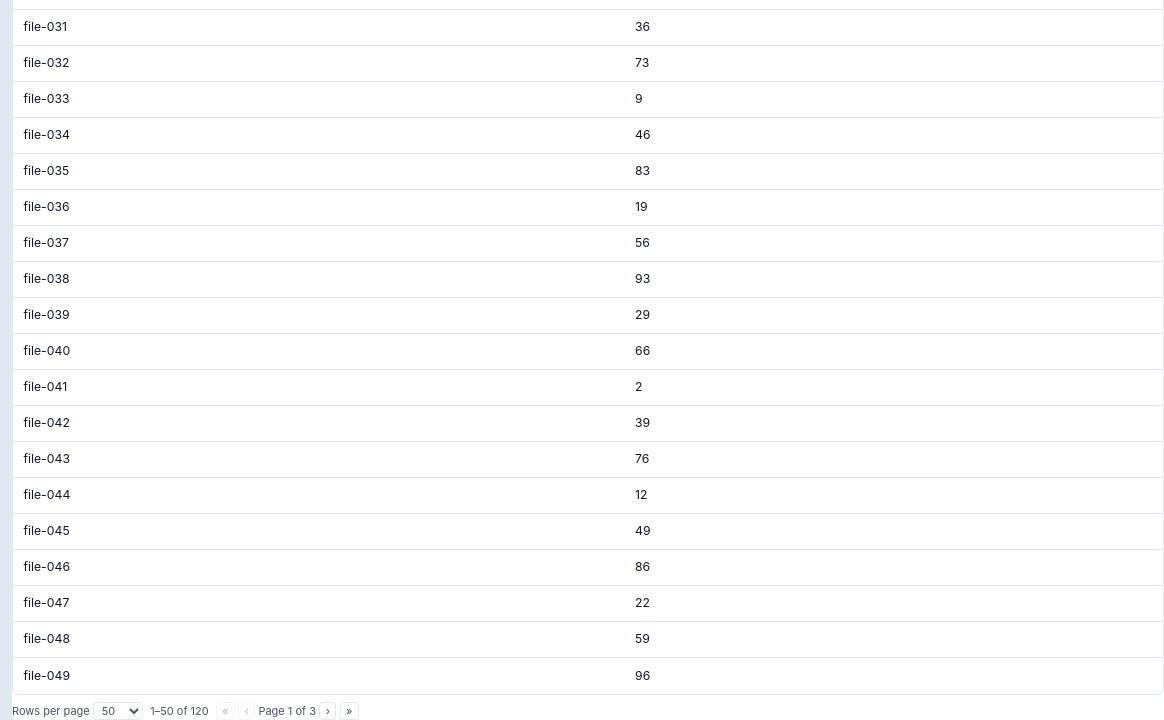
Test: DataGrid paging and sorting › pages 50 rows by default and moves between pages
(page scrolled)
Expected: the text with test id "grid-range" reads "1–50 of 120", [150,702,209,719]
Click the button named "Next page" at {"x": 328, "y": 711}, box [320,702,336,719]
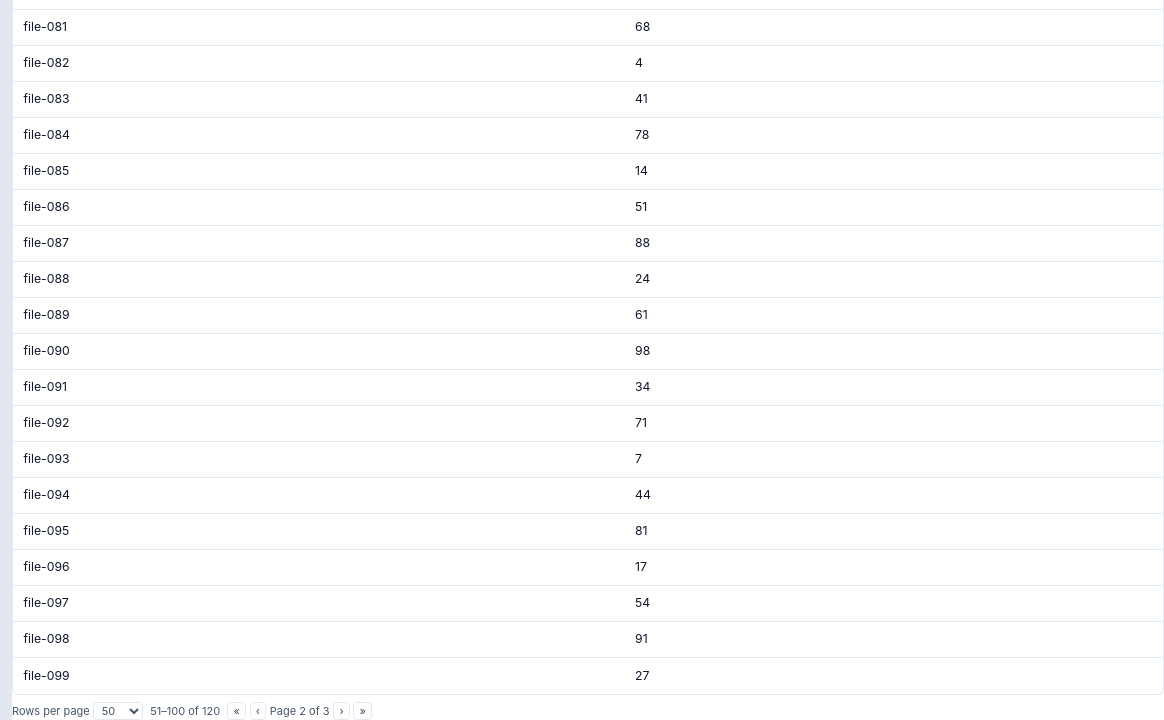
Result: the text with test id "grid-range" reads "51–100 of 120" at [150,702,220,719]
Click the button named "Last page" at {"x": 363, "y": 711}, box [353,702,372,719]
(page scrolled)
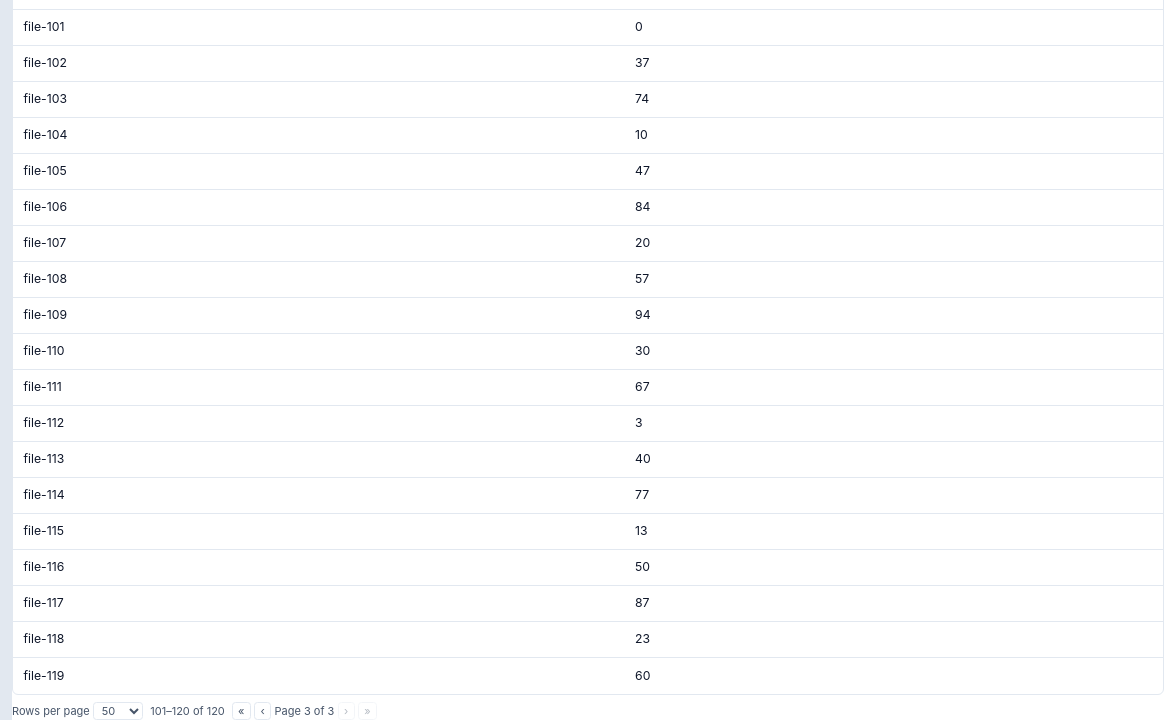
Result: the button named "Next page" is disabled at [338,702,355,719]
Click the button named "First page" at {"x": 241, "y": 711}, box [232,702,251,719]
(page scrolled)
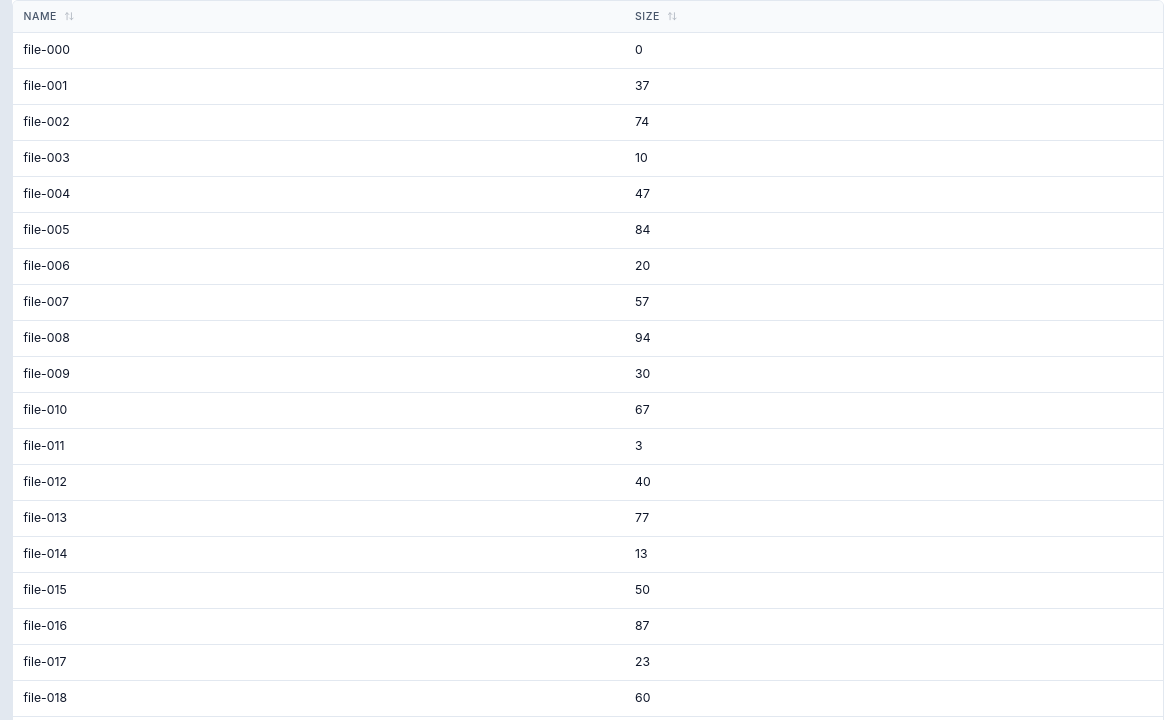
Result: the cell "file-000" is shown at [13,32,624,68]
